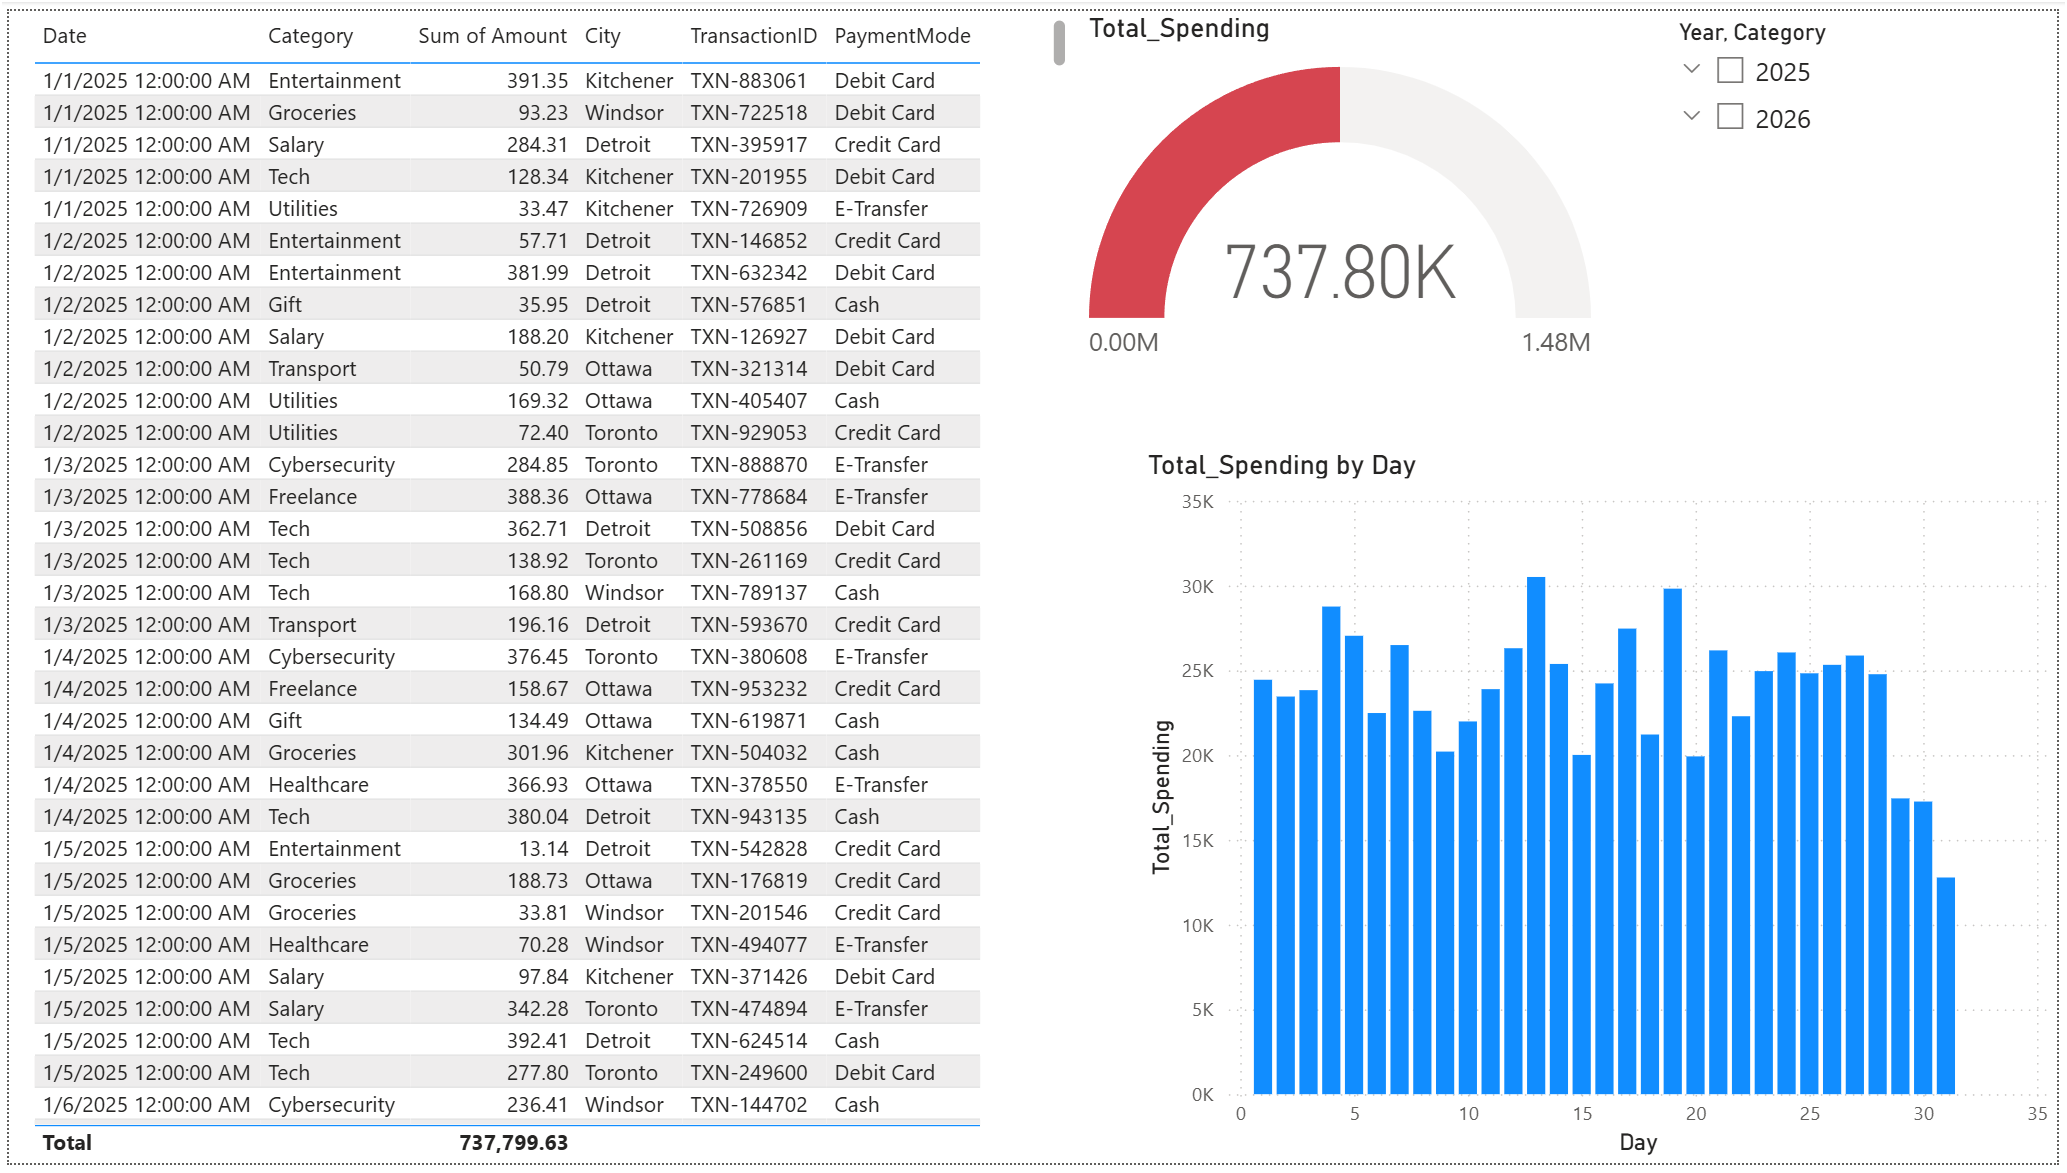

Layout of this report page (visuals, bound fields, positions):
{"tool":"powerbi","page":{"name":"Details","canvas":[1280,720],"ordinal":1},"visuals":[{"type":"tableEx","fields":{"Values":["Fact_Transactions.Date","Fact_Transactions.Category","Sum(Fact_Transactions.Amount)","Fact_Transactions.City","Fact_Transactions.TransactionID","Fact_Transactions.PaymentMode"]},"box":[10,0,656.2,720.6],"z":0},{"type":"slicer","fields":{"Values":["Dim_Date.Date.Variation.Date Hierarchy.Year","Fact_Transactions.Category"]},"box":[1030.6,0,249.4,239.4],"z":1000},{"type":"clusteredColumnChart","fields":{"Category":["Dim_Date.Date.Variation.Date Hierarchy.Day"],"Y":["Dim_Date.Total_Spending"]},"box":[706.8,273.1,573.2,446.9],"z":2000},{"type":"gauge","fields":{"Y":["Dim_Date.Total_Spending"]},"box":[670,0,323.8,238.8],"z":2001}]}

Visuals, with their boxes in screenshot pixels (x1, y1, x2, y2), scaled from the page's 1280x720 canvas onto the 2067x1173 screenshot:
tableEx - Fact_Transactions.Date x Fact_Transactions.Category: x1=16 y1=0 x2=1076 y2=1172
slicer - Dim_Date.Date.Variation.Date Hierarchy.Year x Fact_Transactions.Category: x1=1664 y1=0 x2=2066 y2=390
clusteredColumnChart - Dim_Date.Date.Variation.Date Hierarchy.Day x Dim_Date.Total_Spending: x1=1141 y1=445 x2=2066 y2=1172
gauge - Dim_Date.Total_Spending: x1=1082 y1=0 x2=1605 y2=389
